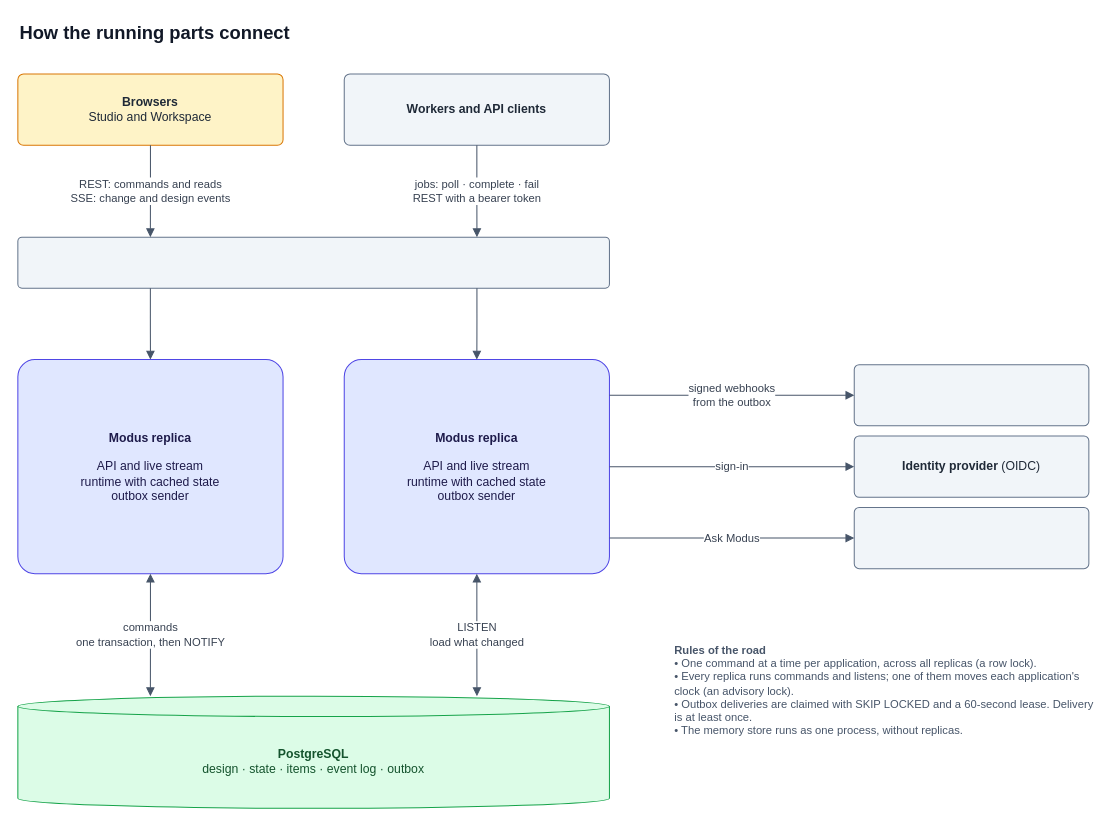
Some shapes in this 1117 by 826 pixel diagram are drawn without their labels. The centre of each missing label's shape, as x and y in pixels:
Anthropic API (optional): the point at 971,537
Ingress / load balancer (any replica can answer): the point at 313,262
Webhook receivers: the point at 971,395
